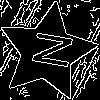N: (22, 27, 74, 71)
